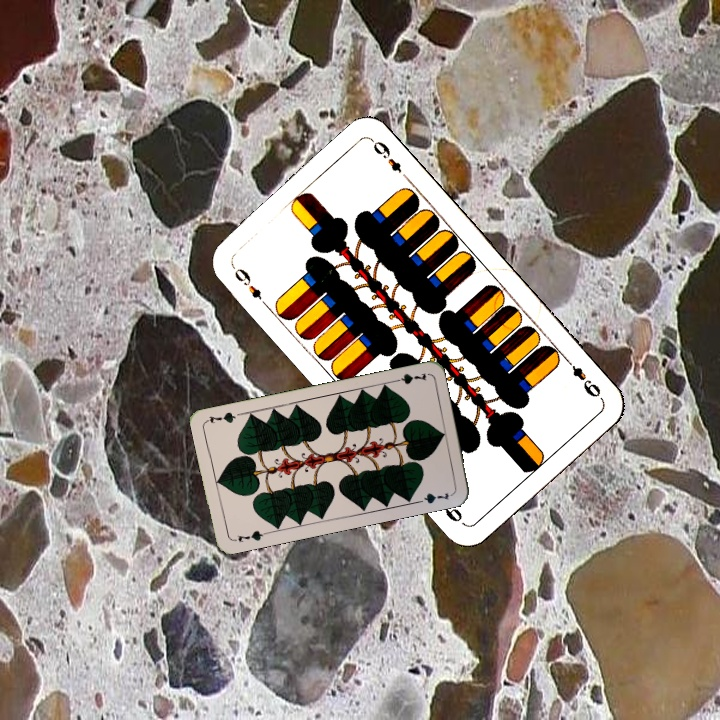E9: (560, 353, 605, 402), (228, 262, 271, 311)
G7: (229, 526, 269, 545), (388, 369, 429, 387)
